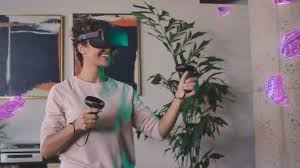oculus: (79, 25, 131, 51)
